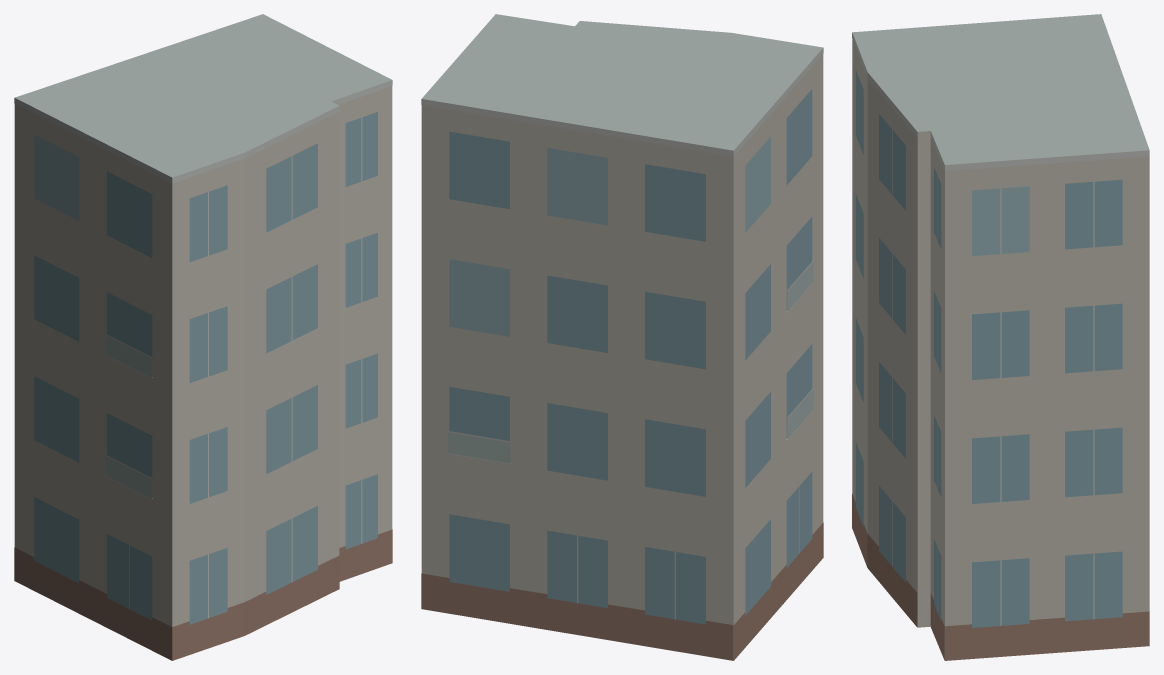
The model's file is survey-upis-32581672.glb.
3 views of the same model, side by side, from view 1: azimuth 30°, elevation 25°; view 2: azimuth 150°, elevation 25°; view 3: azimuth 270°, elevation 25° (orthographic). The views are drawn at different scales.
Parts seen in each view (by area): view 1: survey-upis-32581672.tmp; view 2: survey-upis-32581672.tmp; view 3: survey-upis-32581672.tmp.
Part boxes in pixels (x1,y1,x2,y2): survey-upis-32581672.tmp: [14, 14, 392, 660]; survey-upis-32581672.tmp: [421, 14, 823, 660]; survey-upis-32581672.tmp: [852, 14, 1149, 660].
Bounding box in the file's own units: 13.08 × 20 × 10.89.
